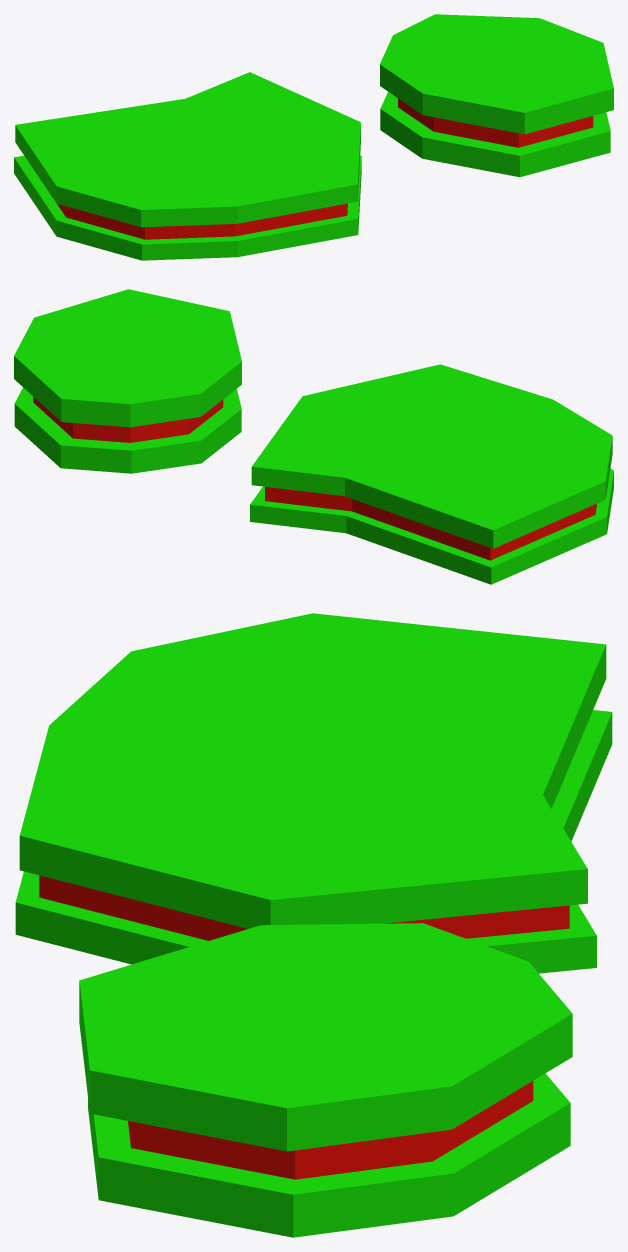
File: rocks.fbx
3 views of the same model, one above another, from view 1: azimuth 30°, elevation 25°; view 2: azimuth 150°, elevation 25°; view 3: azimuth 270°, elevation 25° (orthographic). The views are drawn at different scales.
Visible parts, largest first — view 1: rock, rock1; view 2: rock, rock1; view 3: rock, rock1.
Part boxes in pixels (<box>): rock: <box>14,72,361,260</box>; rock1: <box>380,14,613,177</box>; rock: <box>250,364,613,584</box>; rock1: <box>14,289,241,473</box>; rock: <box>15,613,612,973</box>; rock1: <box>79,923,572,1237</box>.
Size of the model in its own units: 701 by 81.73 by 335.
